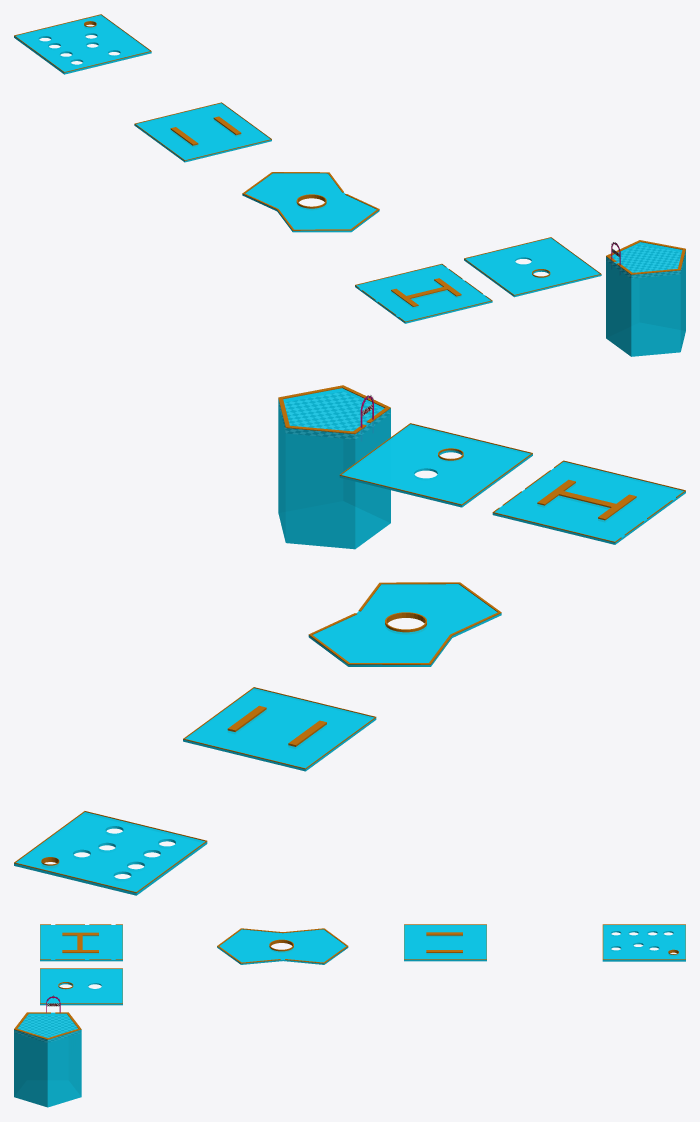
Rendered from Levels.fbx.
3 renders of one model, top to bottom at view 1: azimuth 30°, elevation 25°; view 2: azimuth 150°, elevation 25°; view 3: azimuth 270°, elevation 25°, orthographic. The views are drawn at different scales.
Visible parts, largest first — view 1: pCylinder13, polySurface32, polySurface9, polySurface42, polySurface20, polySurface18, pCylinder12, polySurface34; view 2: pCylinder13, polySurface32, polySurface9, polySurface42, polySurface20, polySurface18, pCylinder12, polySurface34, pCube9, polySurface19; view 3: pCylinder13, polySurface32, polySurface9, polySurface42, polySurface20, polySurface18, pCylinder12, polySurface34, pCube9.
Part boxes in pixels (box(x1,y1,x2,y2)): pCylinder13: box(606, 253, 685, 356); polySurface32: box(242, 173, 379, 232); polySurface9: box(464, 238, 601, 297); polySurface42: box(14, 15, 151, 74); polySurface20: box(134, 103, 271, 162); polySurface18: box(355, 264, 492, 323); pCylinder12: box(606, 242, 685, 278); polySurface34: box(242, 172, 379, 230); pCylinder13: box(278, 404, 390, 549); polySurface32: box(308, 584, 501, 666); polySurface9: box(339, 424, 532, 507); polySurface42: box(14, 812, 207, 895); polySurface20: box(183, 688, 376, 771); polySurface18: box(492, 461, 685, 544); pCylinder12: box(278, 388, 390, 439); polySurface34: box(308, 582, 501, 664); pCube9: box(537, 479, 636, 520); polySurface19: box(278, 385, 390, 434); pCylinder13: box(14, 1032, 81, 1107); polySurface32: box(217, 929, 348, 964); polySurface9: box(40, 969, 122, 1005); polySurface42: box(602, 925, 685, 961); polySurface20: box(404, 925, 486, 961); polySurface18: box(40, 925, 122, 961); pCylinder12: box(14, 1012, 81, 1042); polySurface34: box(217, 928, 348, 963); pCube9: box(62, 932, 98, 952).
Size of the model in its own units: 211 by 72.6 by 522.
7 materials, 3 textured.
